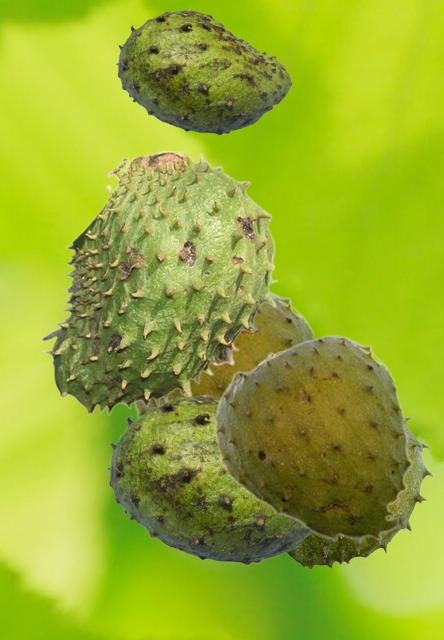guyabano: (40, 150, 277, 415), (210, 334, 412, 544), (107, 394, 311, 564), (133, 290, 316, 419), (286, 415, 432, 568), (116, 9, 291, 134)
